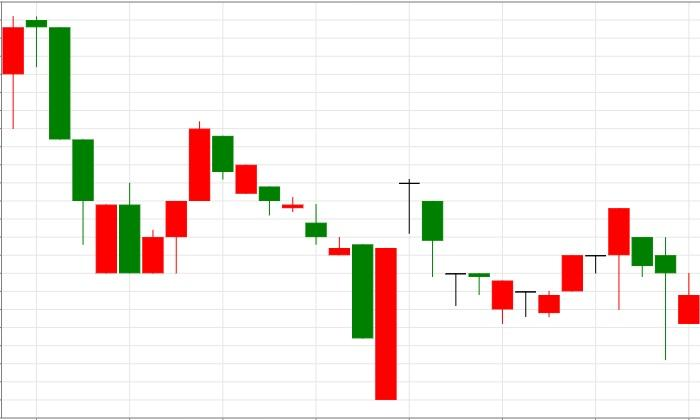three_white_soldiers_rise: (25, 16, 211, 274)
